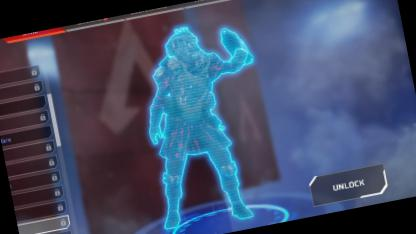Target: (128, 18, 253, 233)
